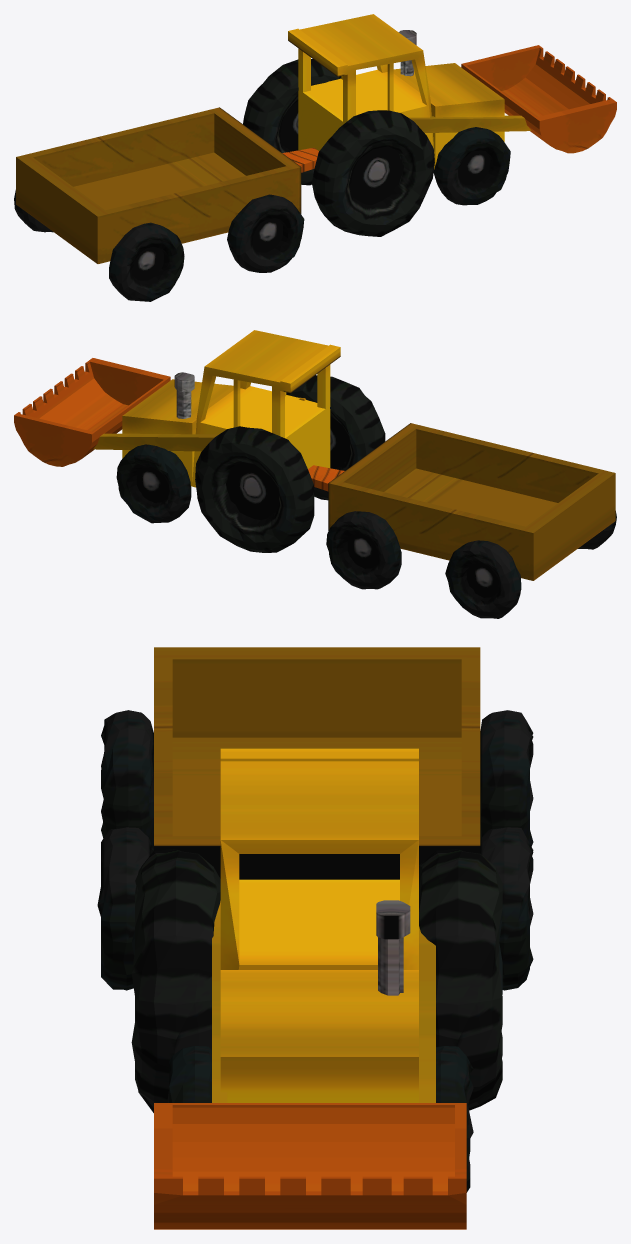
File: Tractor.glb
The picture shows the model from 3 angles, top to bottom: view 1: azimuth 30°, elevation 25°; view 2: azimuth 150°, elevation 25°; view 3: azimuth 270°, elevation 25°; orthographic projection. The views are drawn at different scales.
Visible parts, largest first — view 1: Tractor; view 2: Tractor; view 3: Tractor.
Boxes of the visible parts, x1,y1,x2,y2 form: Tractor: (14, 14, 616, 301); Tractor: (14, 330, 616, 618); Tractor: (97, 647, 533, 1229).
Bounding box in the file's own units: 699 × 211 × 254.
1 material, 1 textured.
